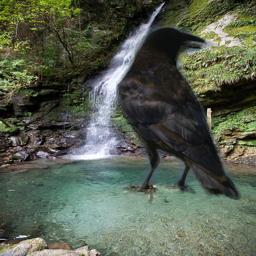Crow: (116, 26, 242, 205)
